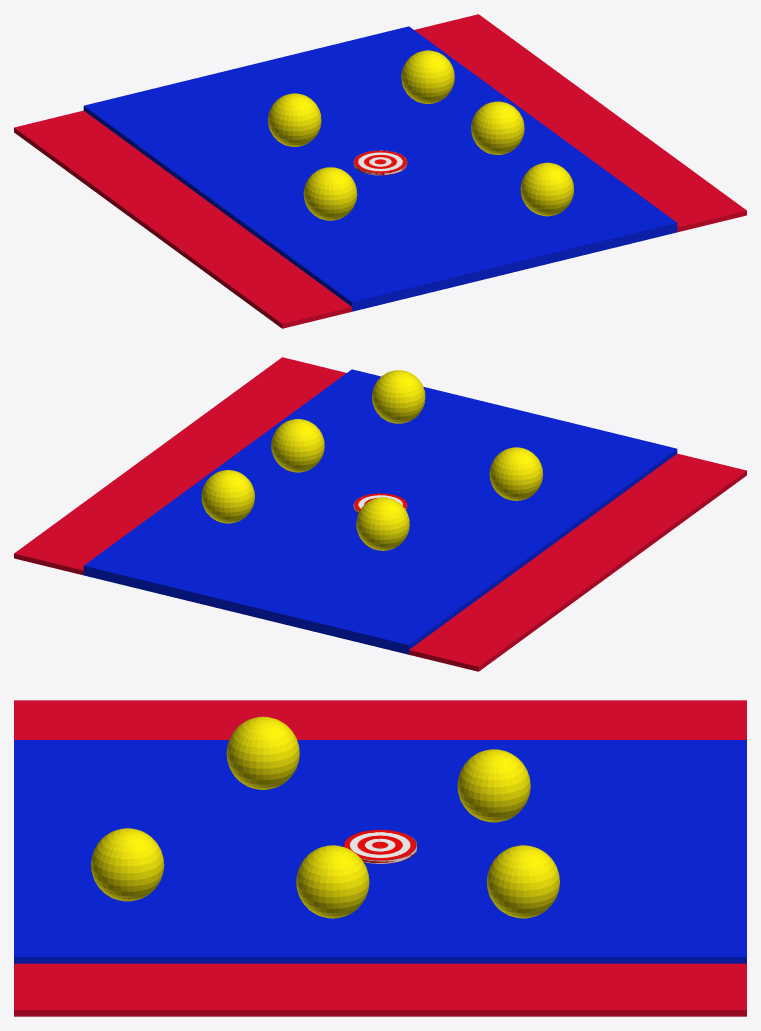
File: Water Hazard.fbx
3 views of the same model, one above another, from view 1: azimuth 30°, elevation 25°; view 2: azimuth 150°, elevation 25°; view 3: azimuth 270°, elevation 25° (orthographic). The views are drawn at different scales.
Visible parts, largest first — view 1: Platform, Side2, Side1, Sphere.004, Sphere, Sphere.002, Sphere.003, Sphere.001, BullsEye; view 2: Platform, Side2, Side1, Sphere.003, Sphere.002, Sphere, Sphere.001, Sphere.004; view 3: Platform, Side1, Side2, Sphere.003, Sphere.001, Sphere, Sphere.004, Sphere.002, BullsEye.
Boxes of the visible parts, left/top/right/bottom form: Platform: left=83, top=26, right=677, bottom=311; Side2: left=14, top=110, right=351, bottom=328; Side1: left=414, top=14, right=746, bottom=232; Sphere.004: left=471, top=101, right=524, bottom=154; Sphere: left=401, top=50, right=454, bottom=103; Sphere.002: left=268, top=93, right=321, bottom=146; Sphere.003: left=520, top=162, right=573, bottom=216; Sphere.001: left=303, top=167, right=357, bottom=220; BullsEye: left=353, top=150, right=407, bottom=175; Platform: left=83, top=369, right=677, bottom=654; Side2: left=409, top=453, right=746, bottom=671; Side1: left=14, top=357, right=346, bottom=575; Sphere.003: left=372, top=370, right=425, bottom=423; Sphere.002: left=356, top=497, right=409, bottom=550; Sphere: left=201, top=470, right=254, bottom=523; Sphere.001: left=489, top=447, right=542, bottom=500; Sphere.004: left=271, top=419, right=324, bottom=472; Platform: left=14, top=740, right=746, bottom=963; Side1: left=14, top=963, right=746, bottom=1016; Side2: left=14, top=700, right=746, bottom=739; Sphere.003: left=91, top=828, right=164, bottom=901; Sphere.001: left=226, top=716, right=299, bottom=789; Sphere: left=486, top=845, right=559, bottom=918; Sphere.004: left=296, top=845, right=369, bottom=918; Sphere.002: left=457, top=749, right=530, bottom=822; BullsEye: left=344, top=829, right=416, bottom=863.
Size of the model in its own units: 20000 by 2400 by 20000.
4 materials, 1 textured.
